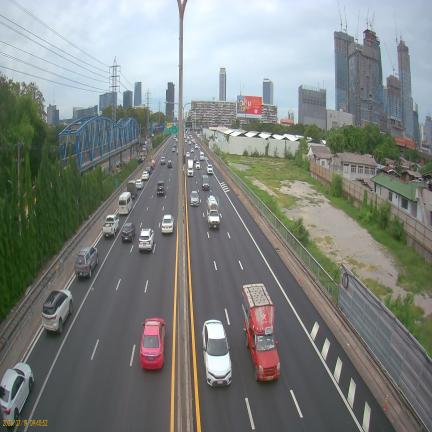car: (0, 363, 34, 427), (202, 320, 231, 386), (42, 289, 73, 334), (74, 246, 98, 277), (139, 228, 154, 252), (122, 223, 136, 242), (161, 214, 174, 234), (190, 191, 199, 206), (136, 178, 143, 189), (142, 171, 149, 180)
pickup: (242, 283, 280, 380), (103, 215, 119, 237), (156, 180, 165, 196), (207, 164, 213, 175)
taxi: (140, 318, 165, 369)
truck: (207, 195, 220, 229), (187, 159, 194, 176)
van: (119, 192, 132, 214), (127, 181, 137, 199), (202, 175, 210, 190), (200, 151, 204, 161)
